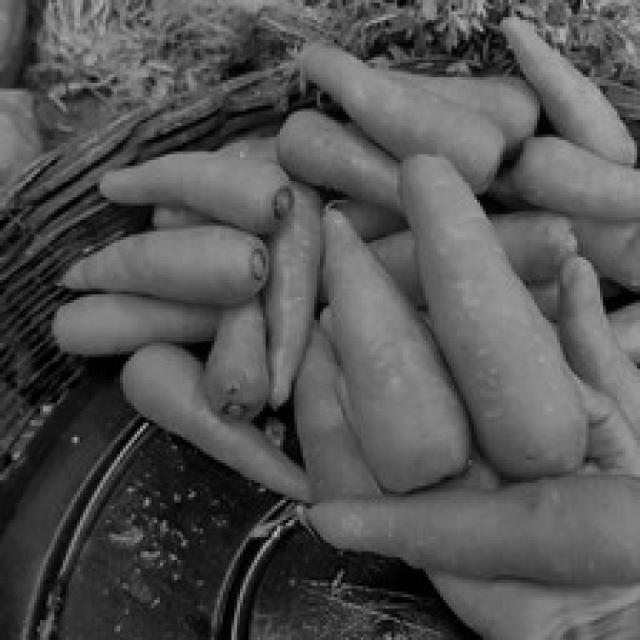Fresh_Carrot: (395, 147, 592, 462), (304, 221, 459, 464), (297, 466, 640, 568), (112, 382, 291, 480), (53, 235, 270, 298)
